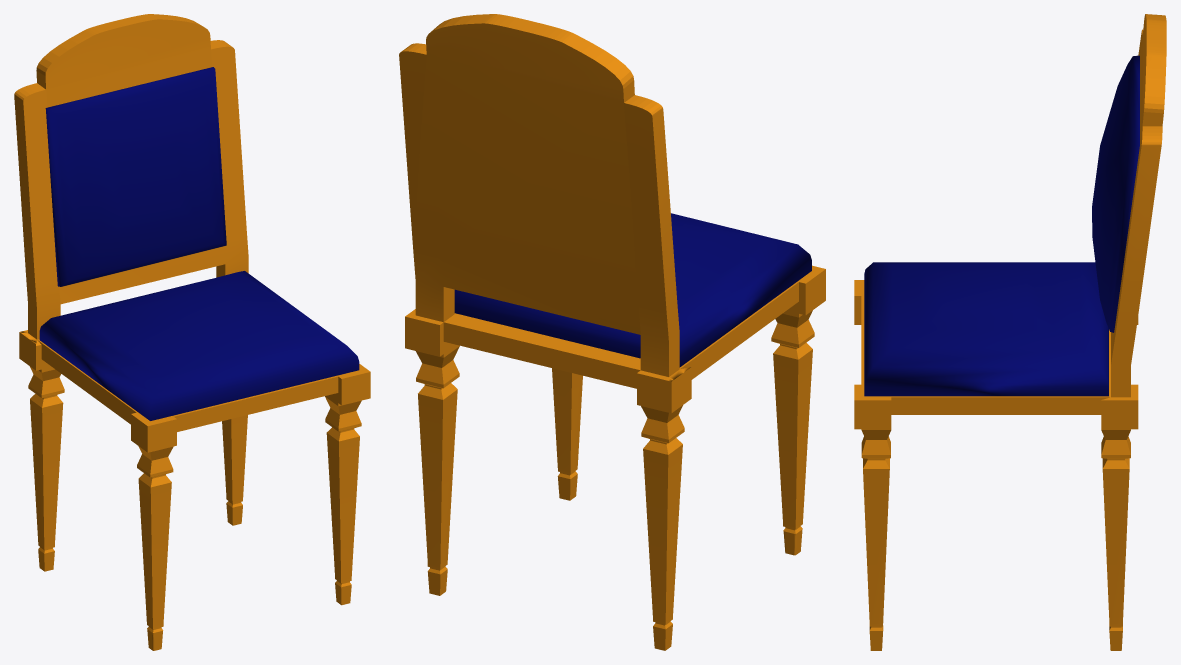
File: M_ChaiseOrBleu.fbx
3 views of the same model, side by side, from view 1: azimuth 30°, elevation 25°; view 2: azimuth 150°, elevation 25°; view 3: azimuth 270°, elevation 25° (orthographic). The views are drawn at different scales.
Parts seen in each view (by area): view 1: Cube.002; view 2: Cube.002; view 3: Cube.002.
Boxes of the visible parts, x1,y1,x2,y2 form: Cube.002: (14,14,370,650); Cube.002: (399,14,825,650); Cube.002: (854,14,1166,650).
Size of the model in its own units: 316 by 691 by 347.
